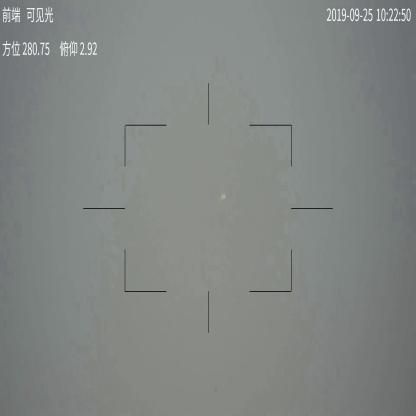uav: (220, 191, 228, 203)
